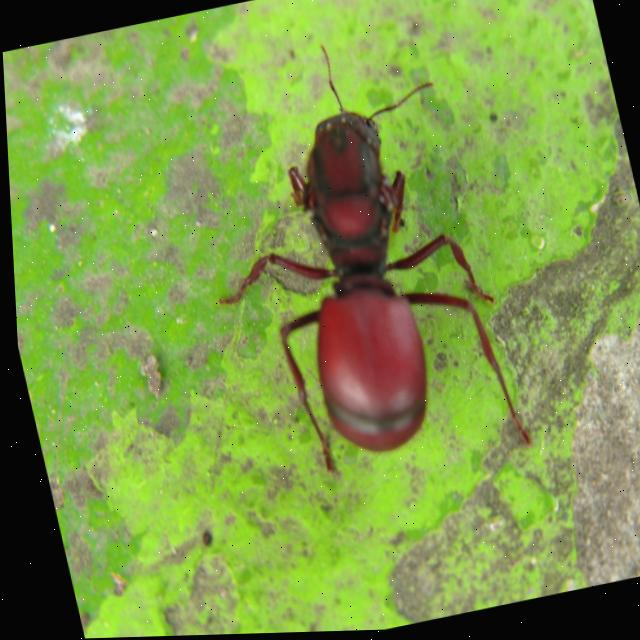Alive-Female-Dealate: (160, 19, 531, 508)
